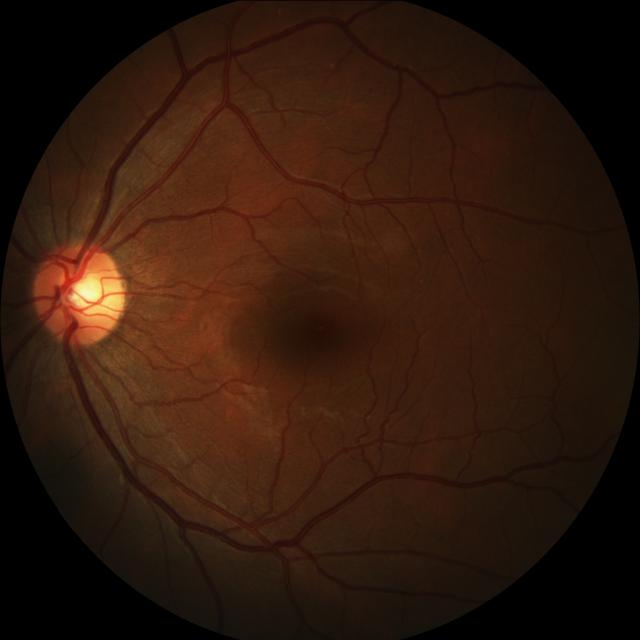OC: (57, 266, 106, 320)
OD: (35, 241, 127, 344)
